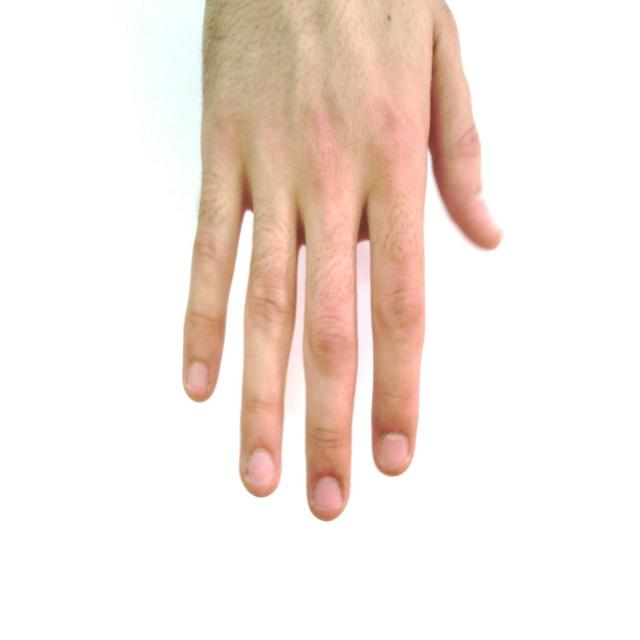others: (178, 1, 515, 528)
